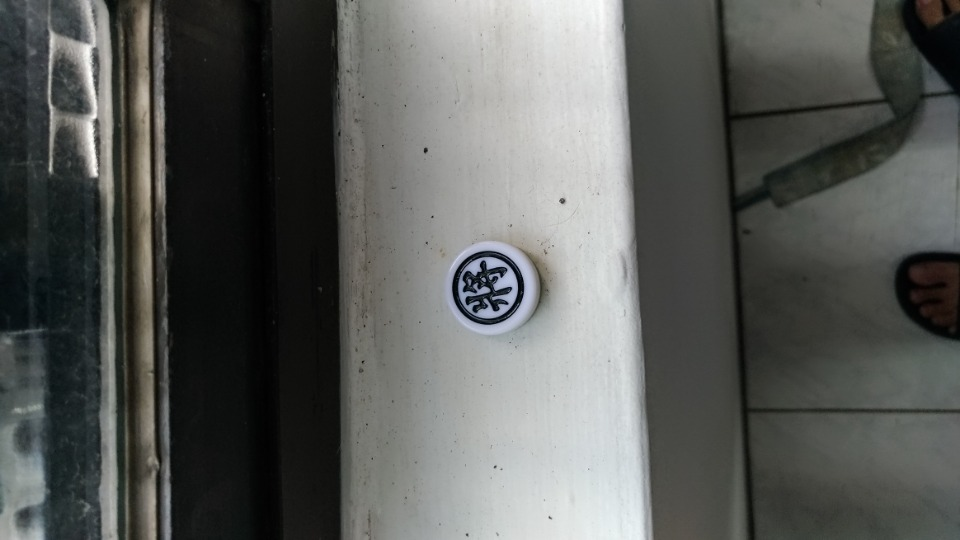b-king: (446, 231, 548, 349)
